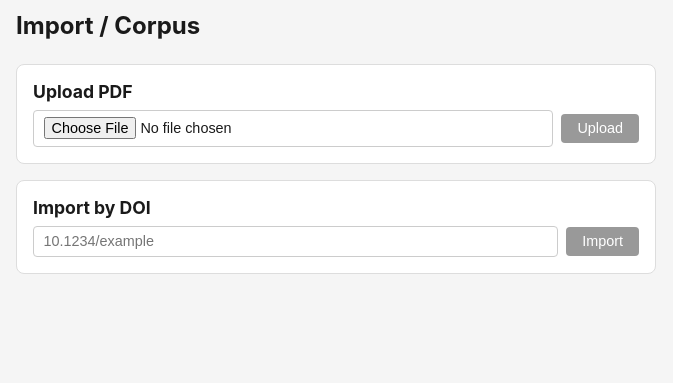
Test case: JobTracker › polls and displays dead status with error
Type "10.1/dead" into the field with test id "doi-input" at (296,241), box [33,226,558,257]
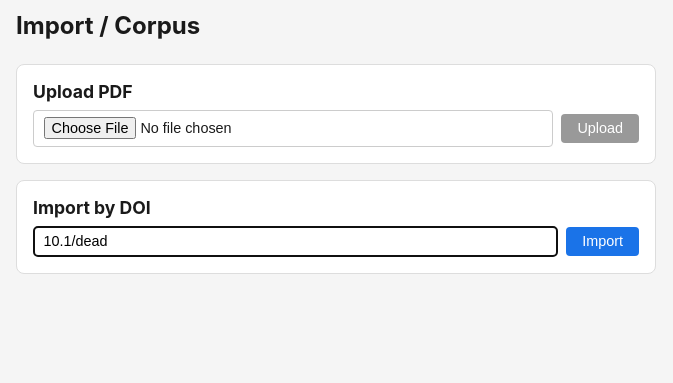
Click the button with test id "doi-btn" at (603,241), box [566,227,639,256]
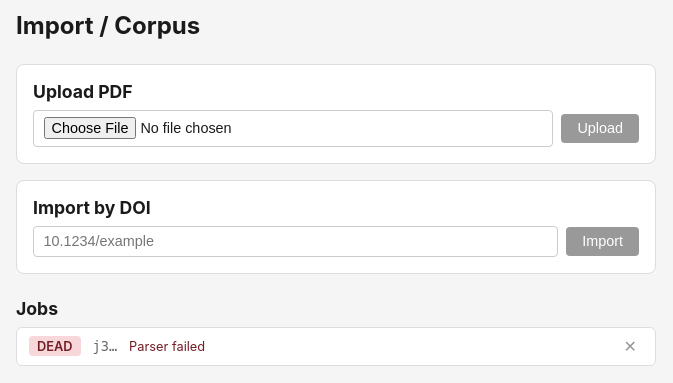
Now the element with test id "job-j3" shows "dead", box [37,339,72,354]
Now the element with test id "job-j3" shows "Parser failed", box [129,339,205,354]
